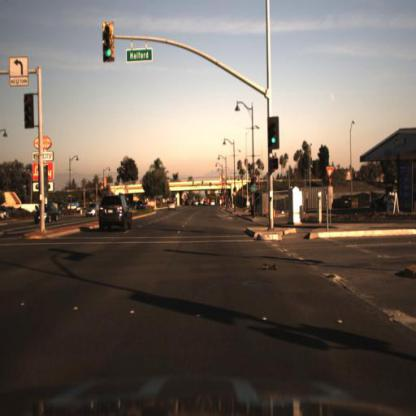car: (98, 193, 136, 237), (35, 202, 60, 226), (84, 203, 98, 219)
trafficLight-Green: (264, 117, 282, 152), (104, 24, 116, 62)
